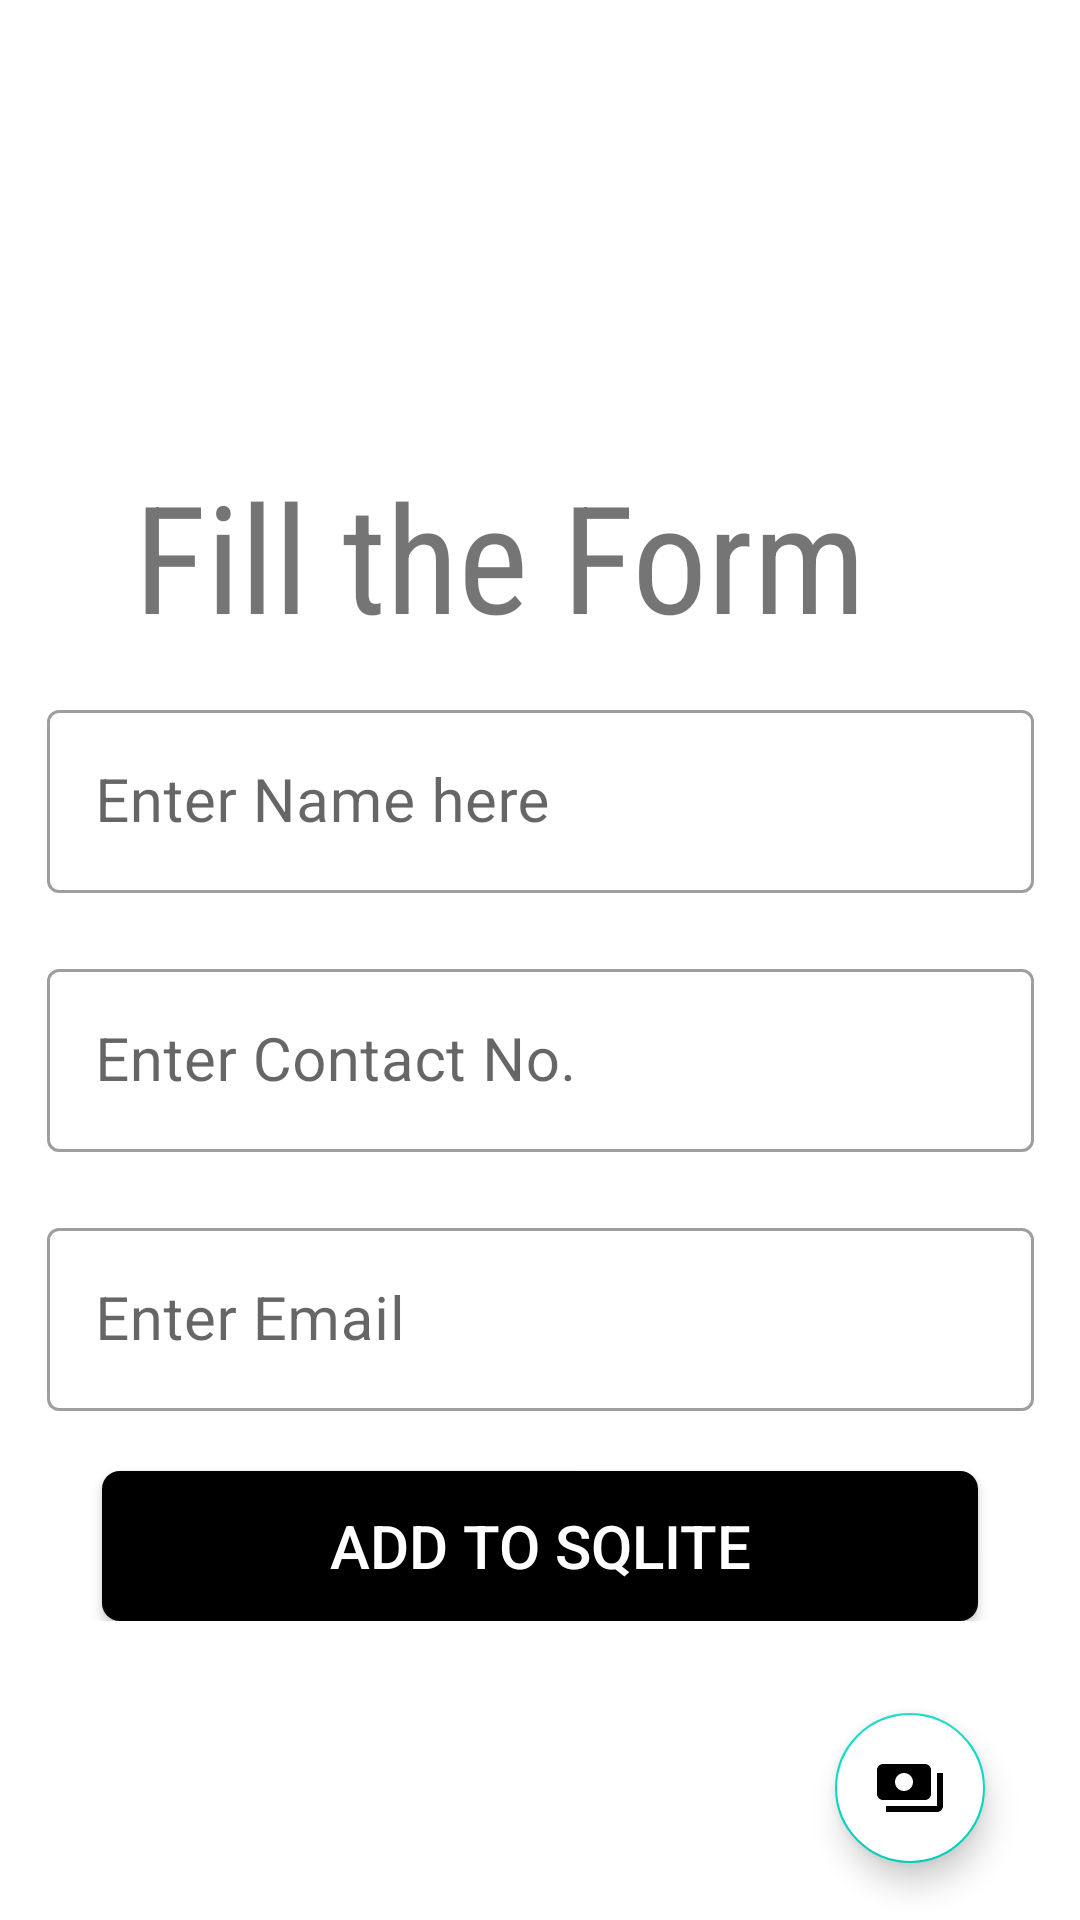

Point at icon controls on the screen. Image size 1080*1920, points as (x,y).
payments: (910,1788)
